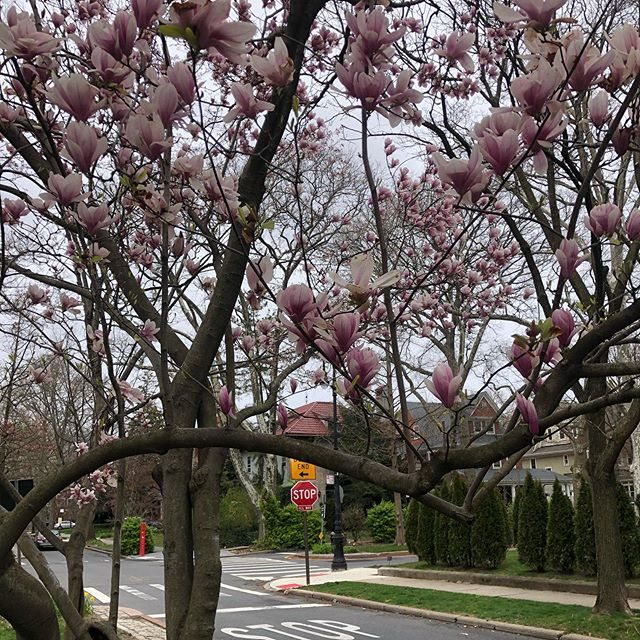crosswalk: (84, 561, 182, 613), (212, 548, 325, 593)
flowers: (1, 1, 640, 482)
sign: (291, 447, 319, 511)
street: (51, 544, 514, 640)
